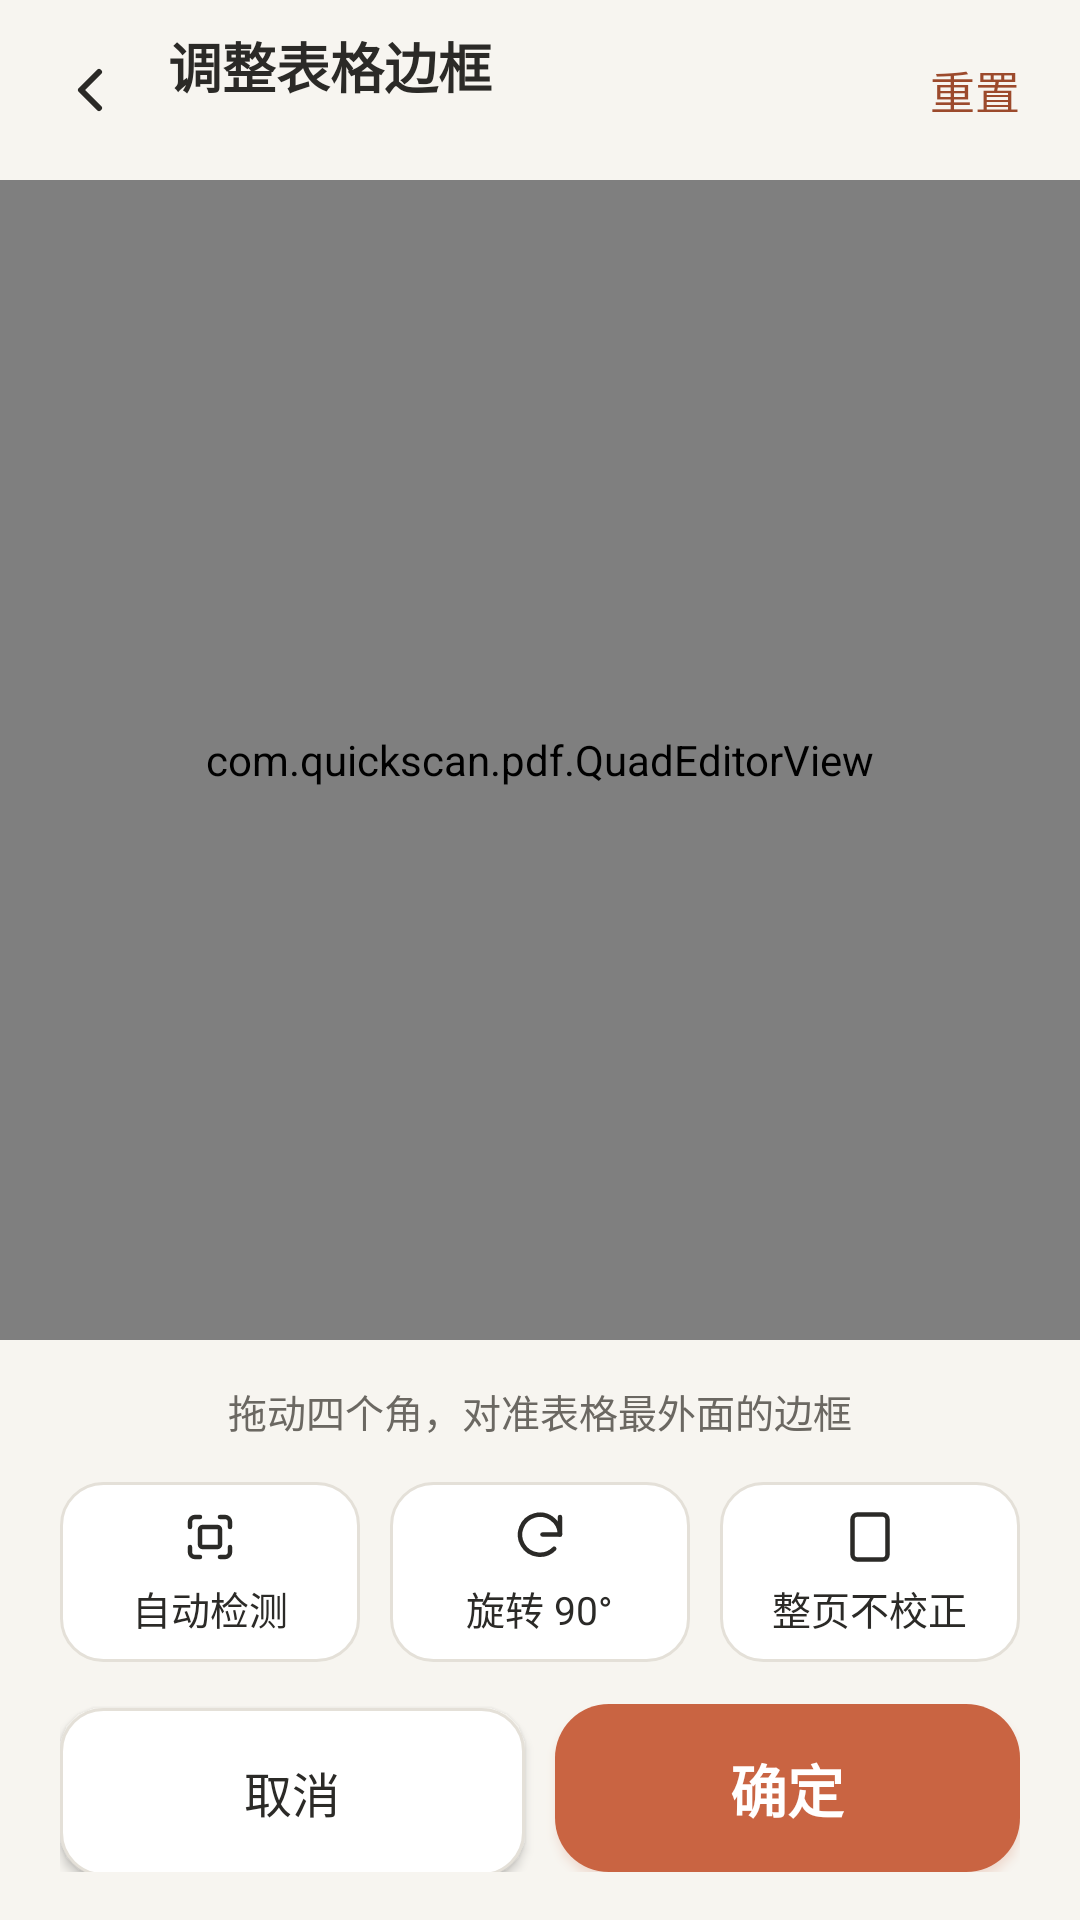

Icons on this 1080 × 1920 Android screen, each with its box as (x1, y1, x2, y2):
返回: (78, 69, 102, 111)
